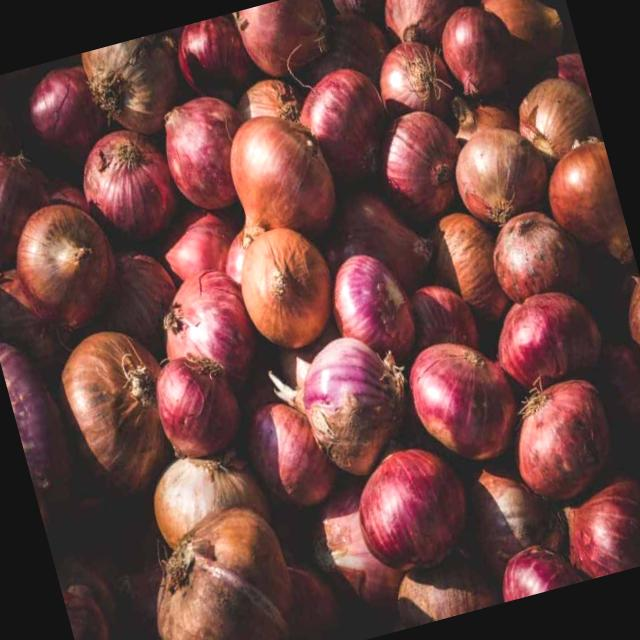onion: (212, 105, 348, 258), (286, 326, 418, 478), (341, 435, 479, 580), (398, 331, 528, 472), (3, 190, 130, 332), (223, 218, 347, 356), (356, 90, 464, 220), (73, 120, 184, 245), (480, 282, 606, 392), (446, 116, 556, 230), (146, 343, 252, 461), (156, 92, 251, 213), (425, 0, 523, 109)
